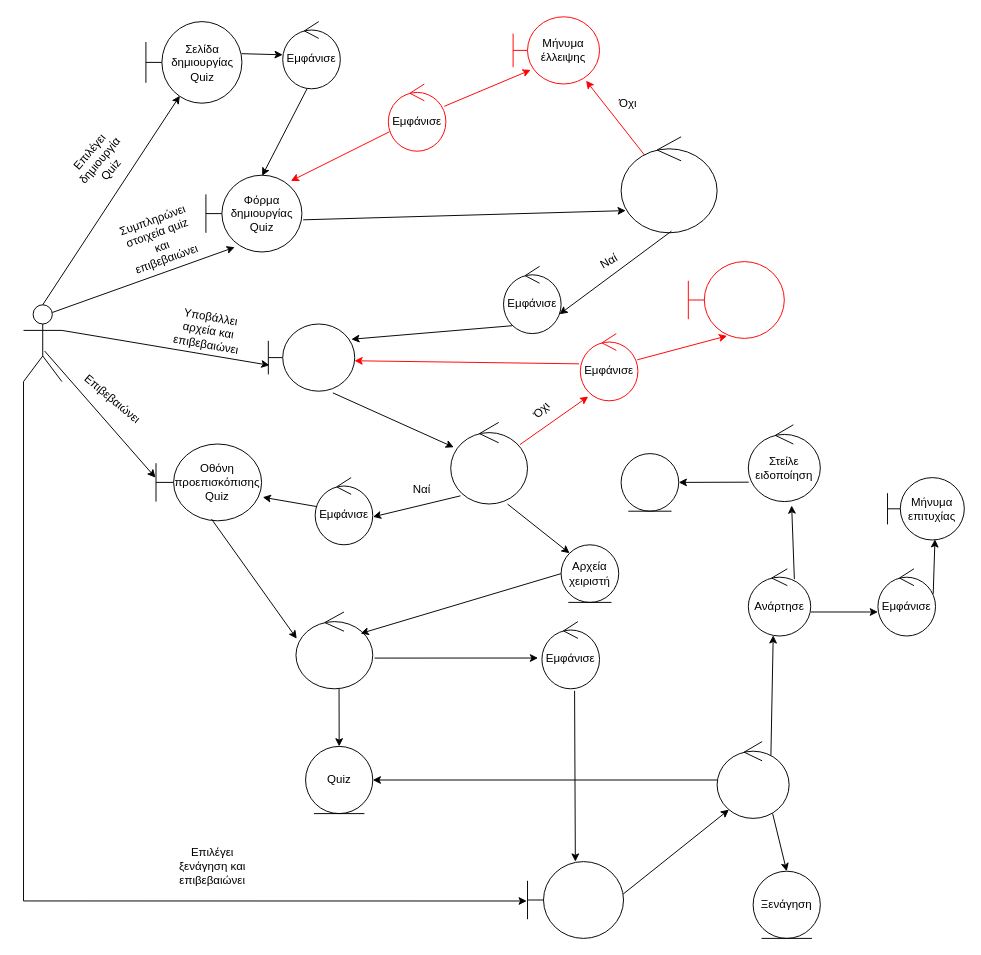
The diagram is 981 pixels wide and 955 high, and some of its shapes have lost their labels. The shapes that lost their labels are listed below. From the top down, each one's centre as x and y in pixels, then its label:
the point at 668,184: Συμπληρώθηκαν όλες οι πληροφορίες;
the point at 735,299: Μήνυμα μη επιτρεπτού μεγέθους
the point at 42,343: Ξεναγός
the point at 311,357: Οθόνη υποβολής αρχείων
the point at 489,462: Τα αρχεία έχουν επιτρεπτό μέγεθος;
the point at 649,482: Χρήστης
the point at 334,650: Καταχώρησε
the point at 752,779: Σύνδεσε ξενάγηση με Quiz
the point at 575,899: Λίστα ιστορικού ξεναγήσεων του χειριστή
